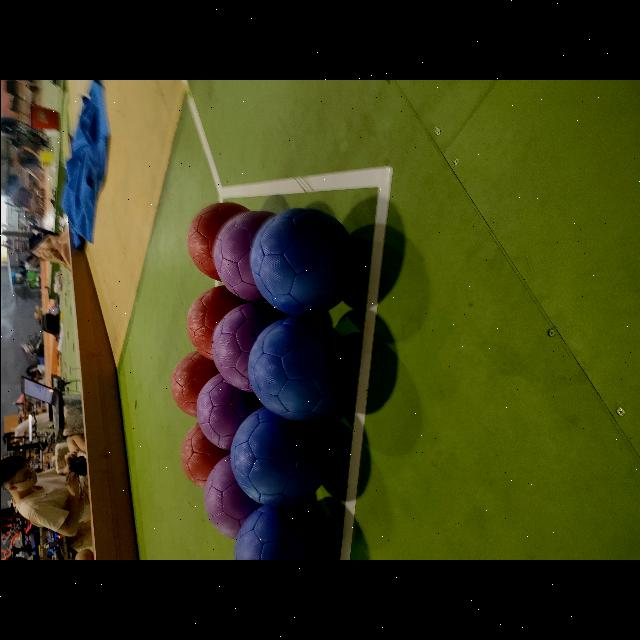B: (249, 208, 355, 316), (245, 320, 357, 420), (229, 408, 329, 507), (232, 504, 330, 560)
P: (212, 210, 272, 302), (195, 374, 261, 450), (203, 454, 259, 538)
R: (185, 202, 247, 280), (185, 286, 245, 358), (170, 351, 216, 417), (180, 424, 227, 486)
